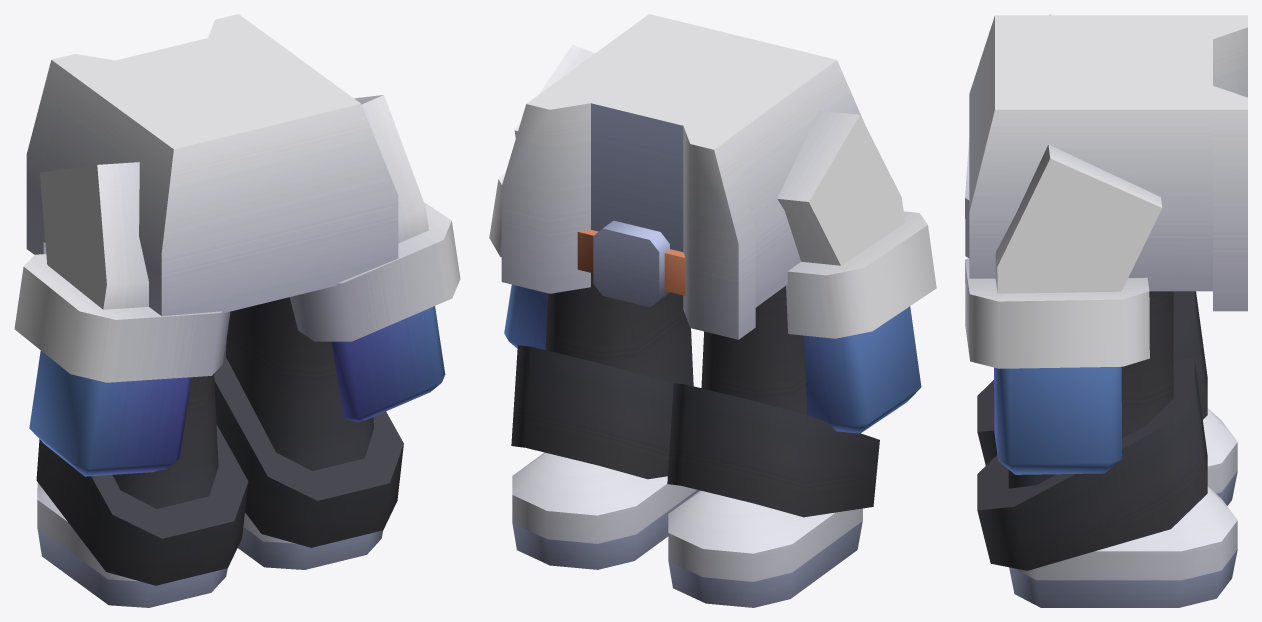
Rendered from mini-female-e.glb.
3 views of the same model, side by side, from view 1: azimuth 30°, elevation 25°; view 2: azimuth 150°, elevation 25°; view 3: azimuth 270°, elevation 25° (orthographic). The views are drawn at different scales.
Parts seen in each view (by area): view 1: body-mesh; view 2: body-mesh; view 3: body-mesh.
Part boxes in pixels (x1,y1,x2,y2): body-mesh: (14, 14, 460, 607); body-mesh: (489, 14, 936, 607); body-mesh: (965, 14, 1247, 607).
Bounding box in the file's own units: 1.23 × 1.4 × 0.751.
1 material, 1 textured.
